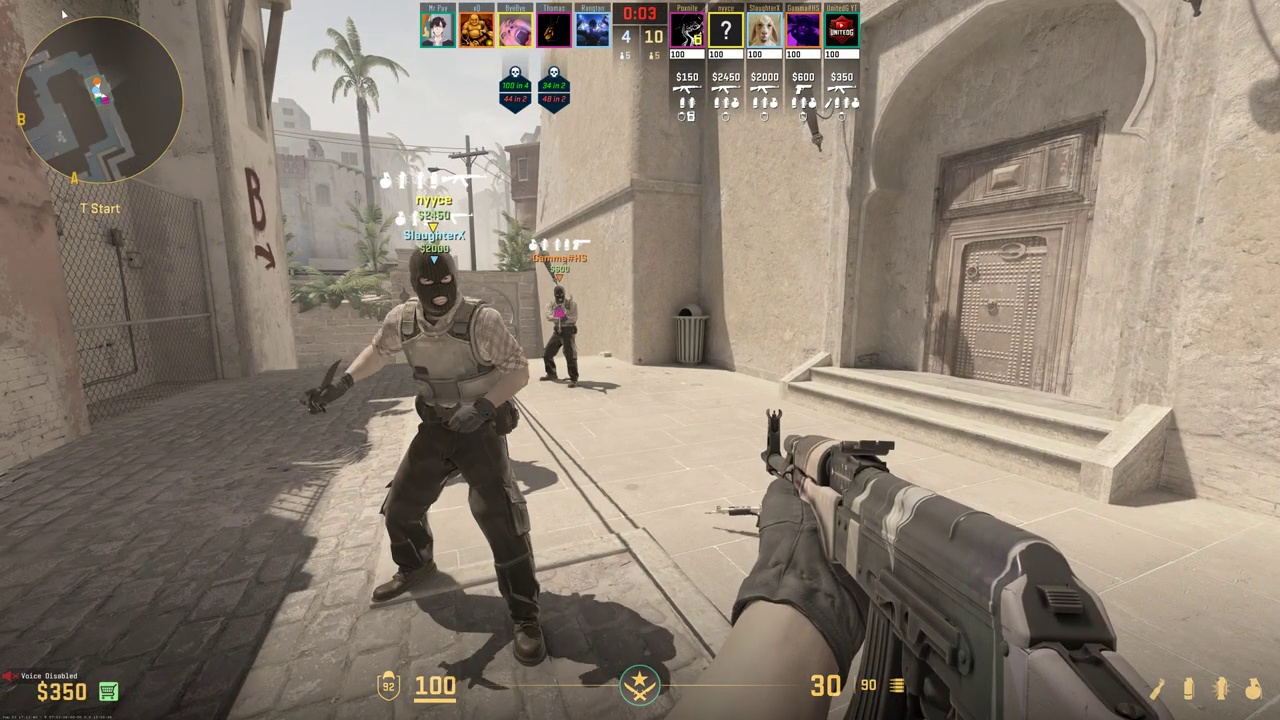Terrorist: (370, 246, 538, 667), (540, 285, 578, 388)
